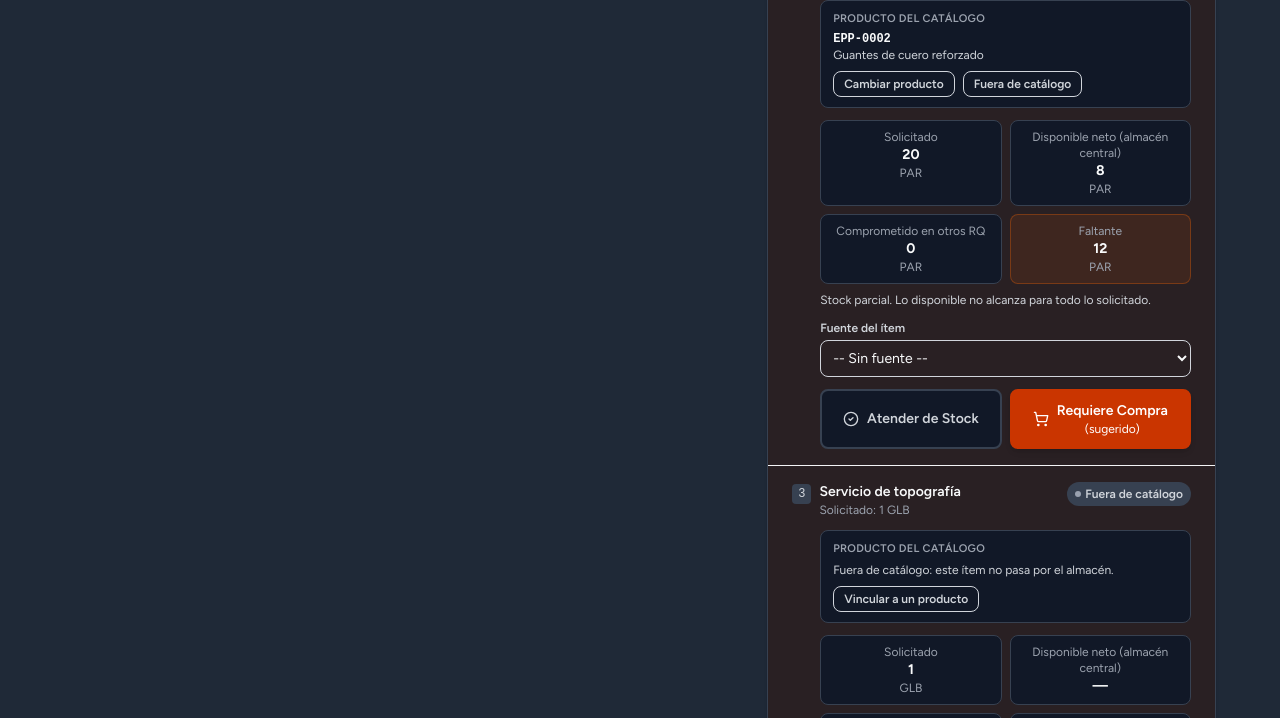
LogisticsActionPage — sugerencia y decisión › guarda las decisiones por ítem ANTES de enviar STOCK_CHECKED y envía la acción del flujo de siempre
(page scrolled)
Select "Consumibles" in the dropdown labelled "Fuente del ítem" at [1006, 358], box [820, 340, 1191, 377]
(page scrolled)
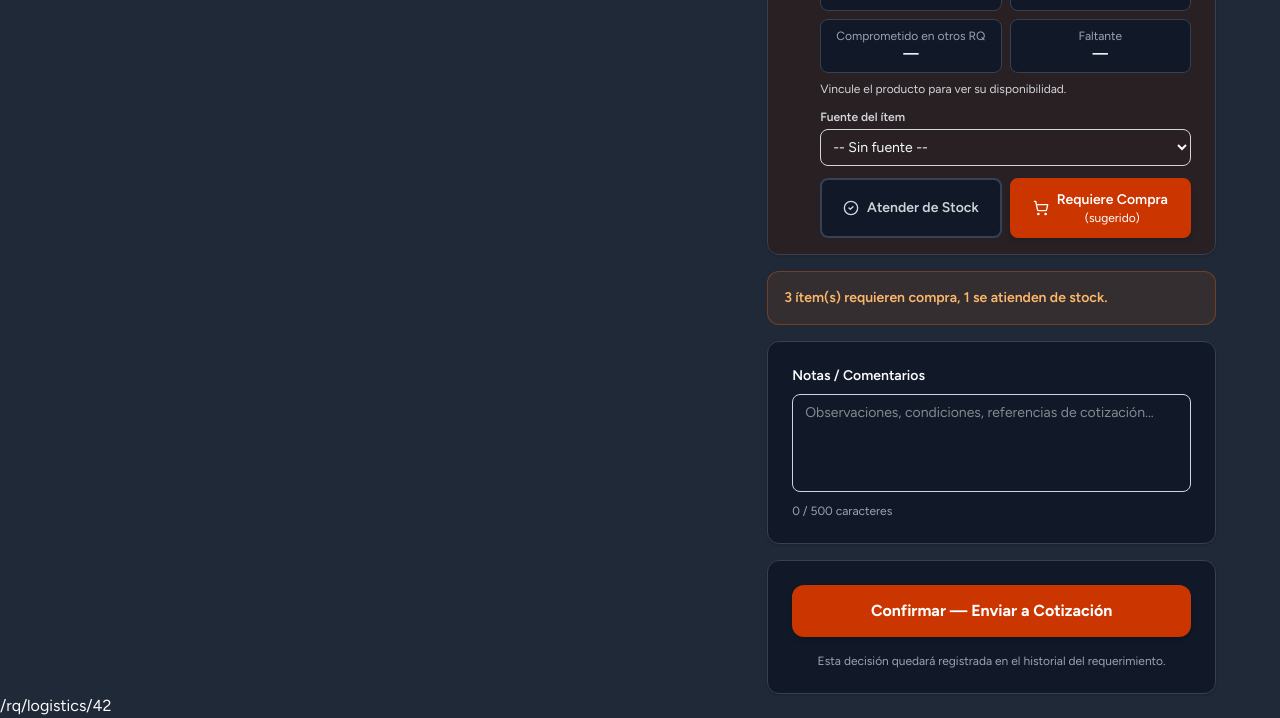
Click the button "Confirmar — Enviar a Cotización" at [992, 611], box [792, 585, 1191, 637]
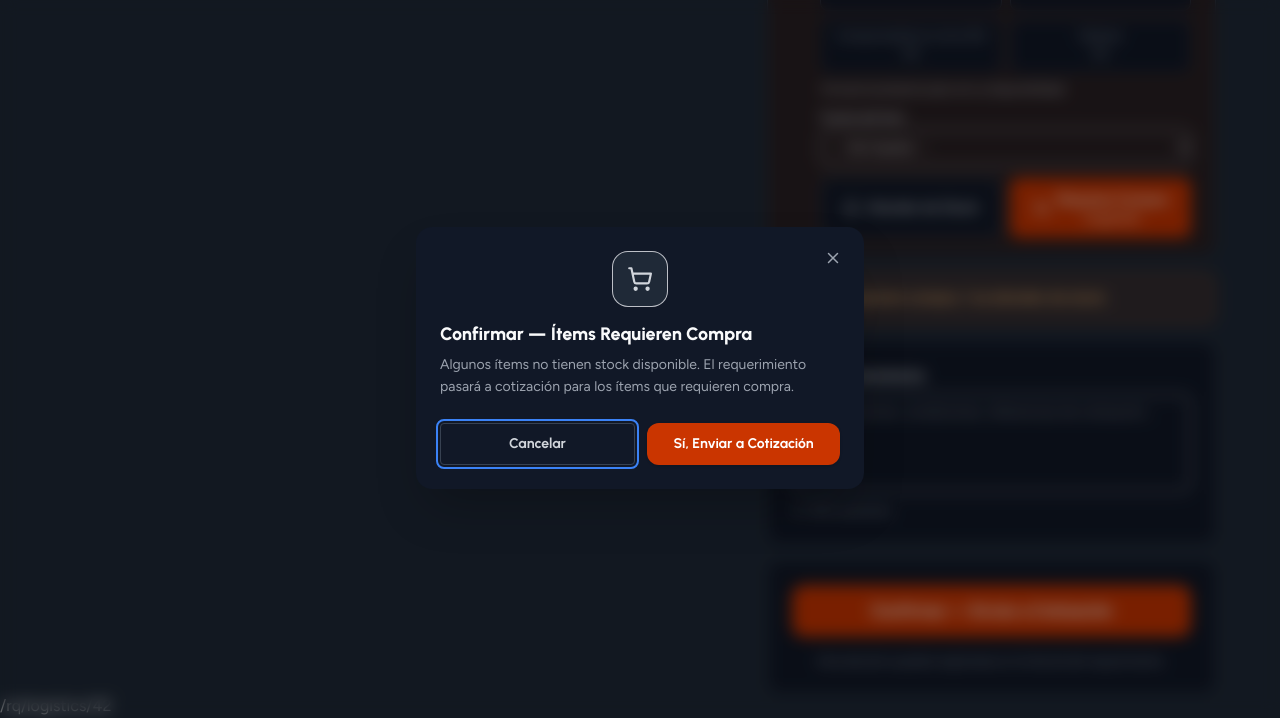
Check: the dialog shows "Confirmar — Ítems Requieren Compra", box [440, 323, 752, 345]
Click the button "Sí, Enviar a Cotización" at [744, 444], box [647, 423, 840, 465]
(page scrolled)
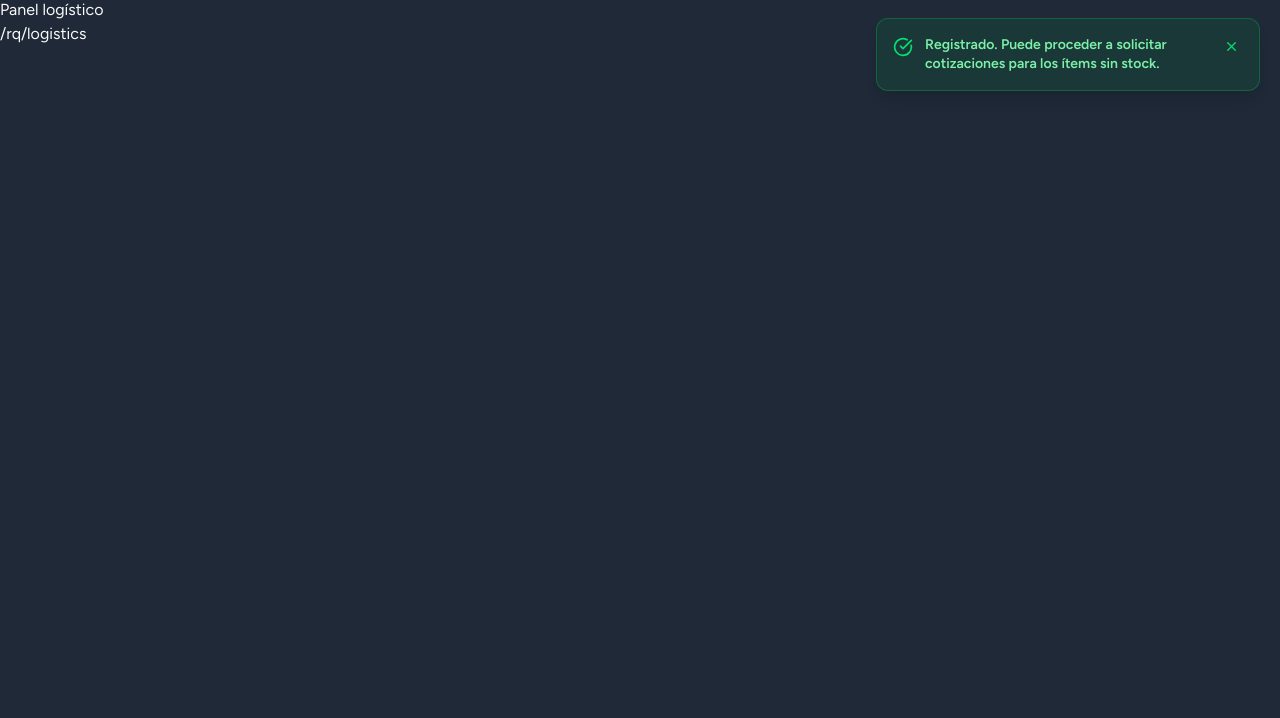
Check: the text with test id "loc" reads "/rq/logistics", box [0, 24, 86, 43]
